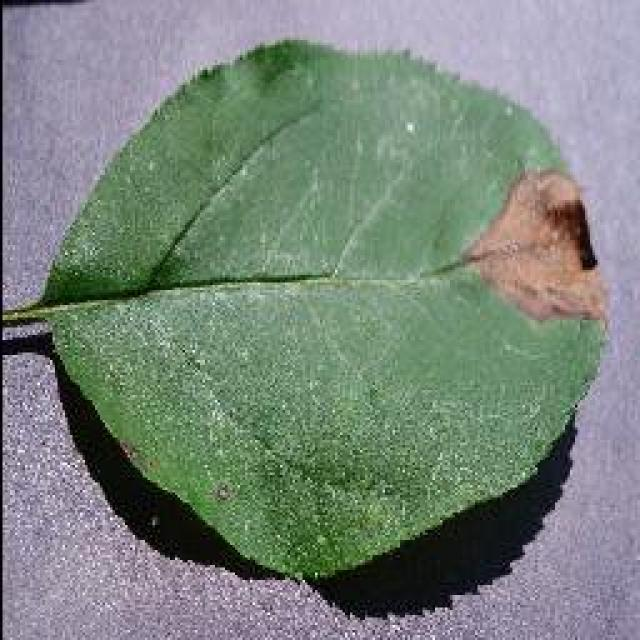apple black rot: (35, 35, 610, 587)
